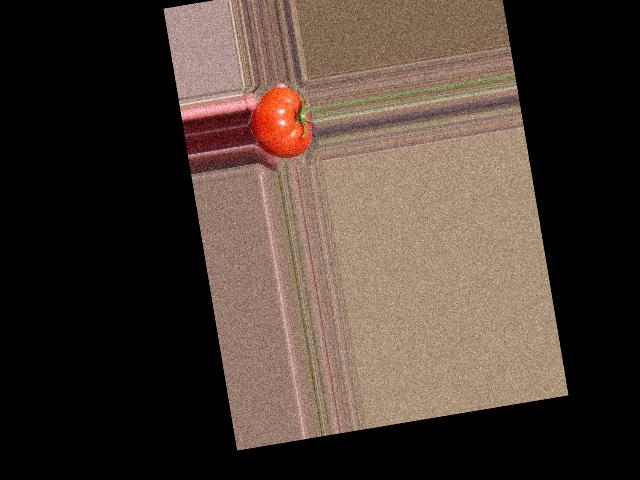tomato: (245, 83, 316, 161)
